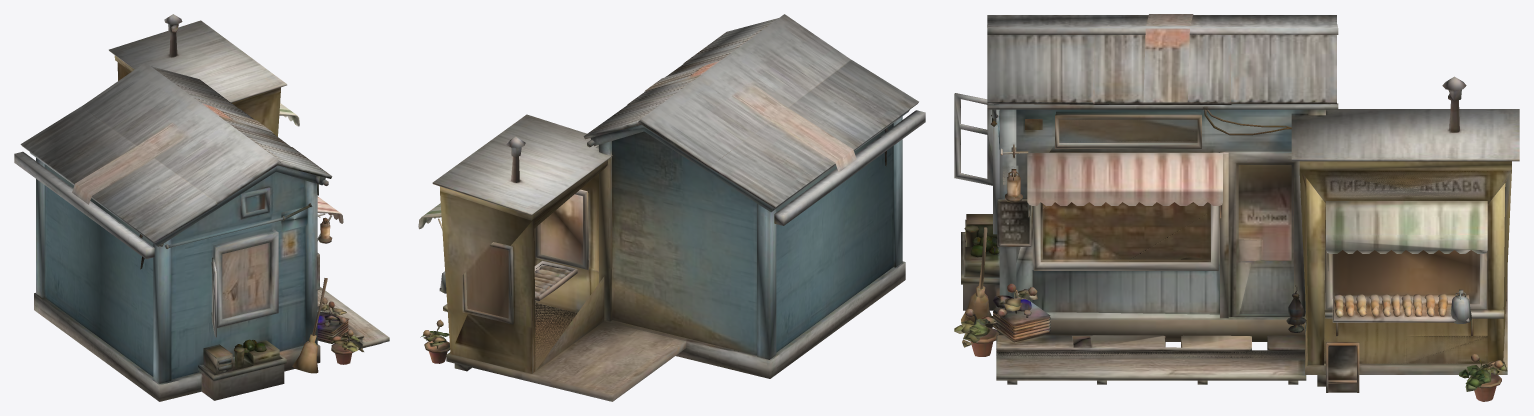
The model's file is kiosks.glb.
The picture shows the model from 3 angles, left to right: view 1: azimuth 30°, elevation 25°; view 2: azimuth 150°, elevation 25°; view 3: azimuth 270°, elevation 25°; orthographic projection. The views are drawn at different scales.
Visible parts, largest first — view 1: tripo_node_f4511193-9d20-48c2-a5e5-95a8403cb27b; view 2: tripo_node_f4511193-9d20-48c2-a5e5-95a8403cb27b; view 3: tripo_node_f4511193-9d20-48c2-a5e5-95a8403cb27b.
Part boxes in pixels (x1,y1,x2,y2): tripo_node_f4511193-9d20-48c2-a5e5-95a8403cb27b: (14,14,389,401); tripo_node_f4511193-9d20-48c2-a5e5-95a8403cb27b: (418,14,925,401); tripo_node_f4511193-9d20-48c2-a5e5-95a8403cb27b: (954,14,1519,401).
Size of the model in its own units: 0.7559 by 0.5566 by 0.998.
1 material, 1 textured.
